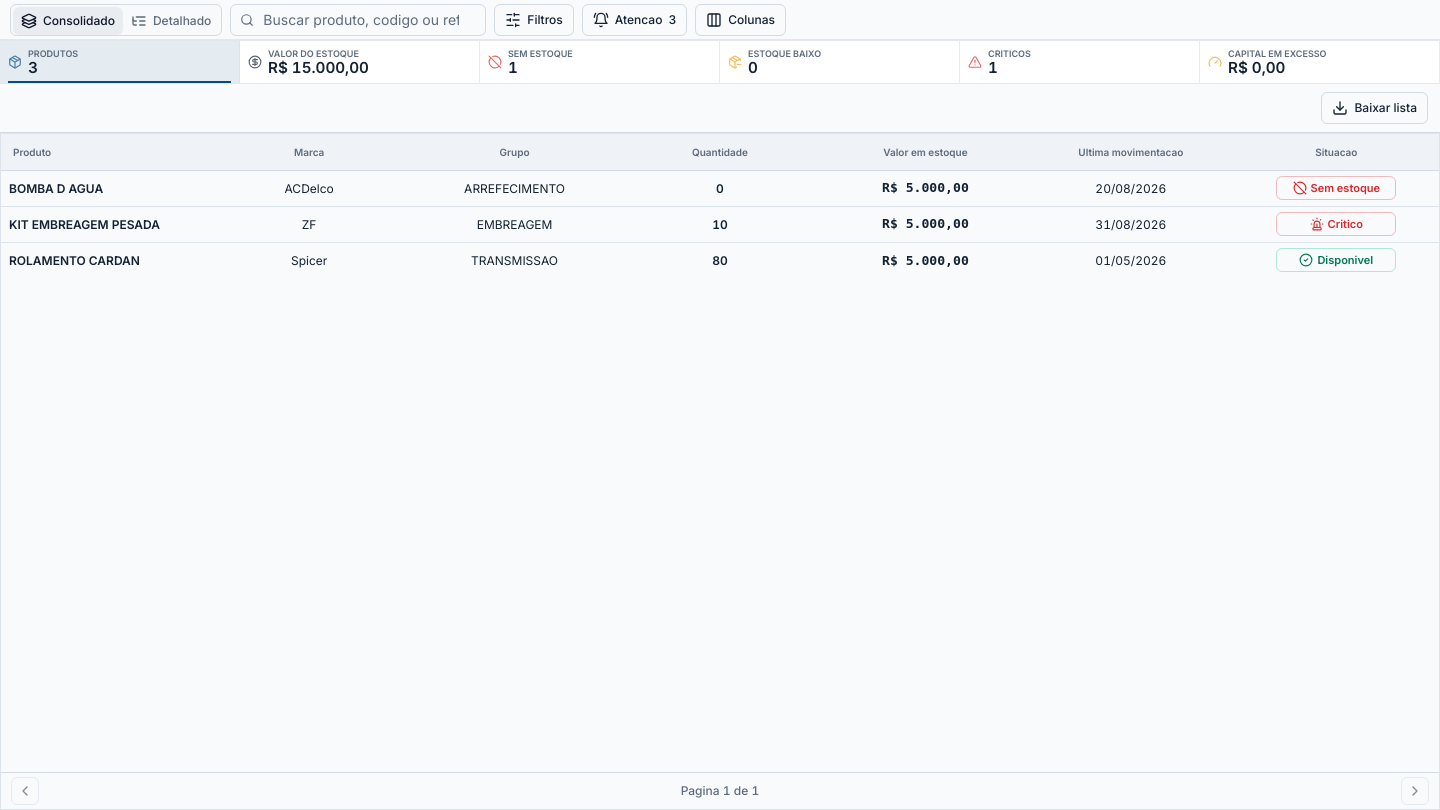
EstoqueCommandCenter › prioriza a tabela e abre informacoes secundarias no painel de atencao
Expected: the text "Atencao no estoque" is not shown
Click the button with aria-label "Abrir painel de atencao" at x=634, y=20, box [582, 4, 687, 36]
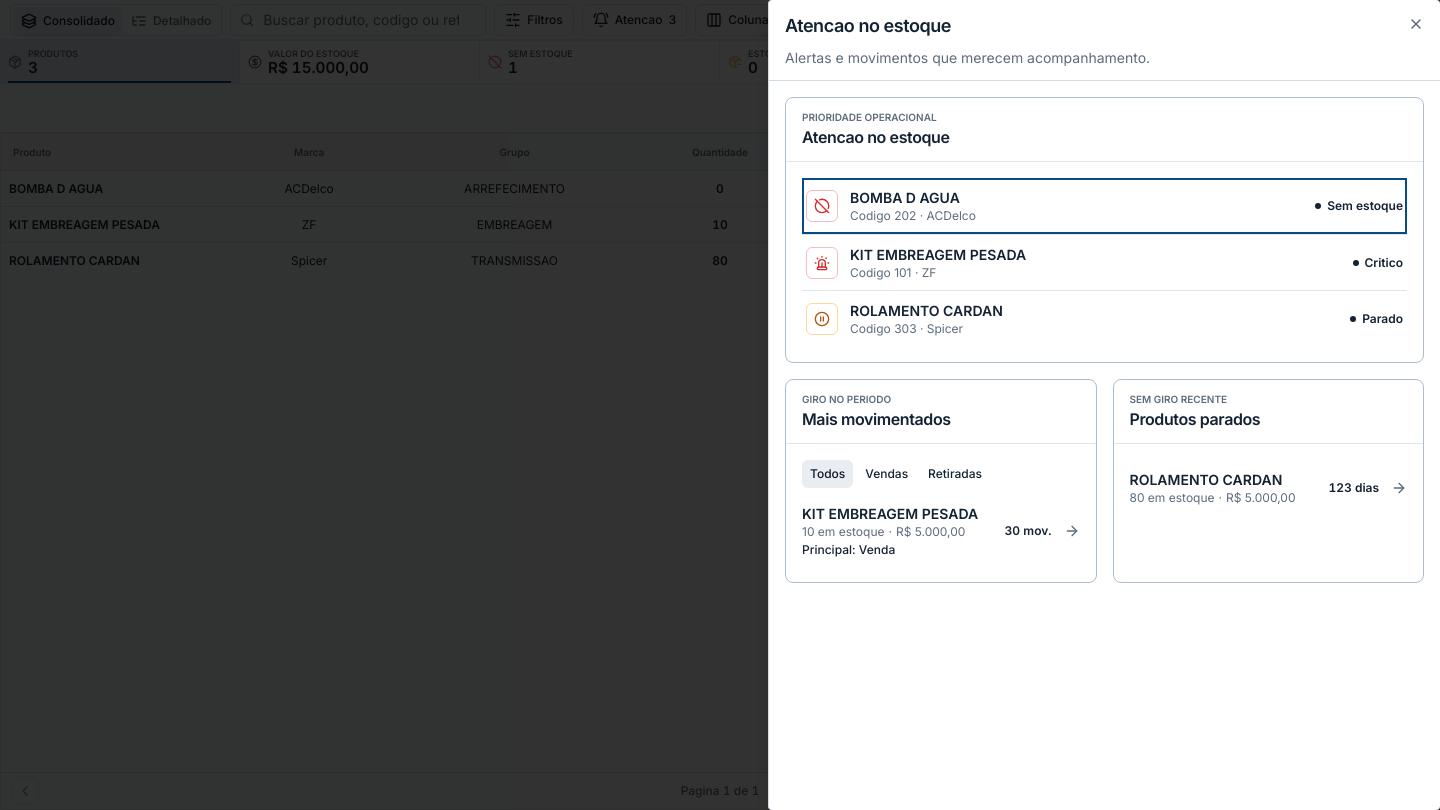
Expected: the heading "Mais movimentados" is shown, [802, 407, 951, 431]
Expected: the heading "Produtos parados" is shown, [1130, 407, 1260, 431]
